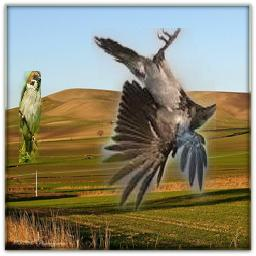Crow: (92, 29, 217, 212)
Sparrow: (19, 71, 41, 163)
